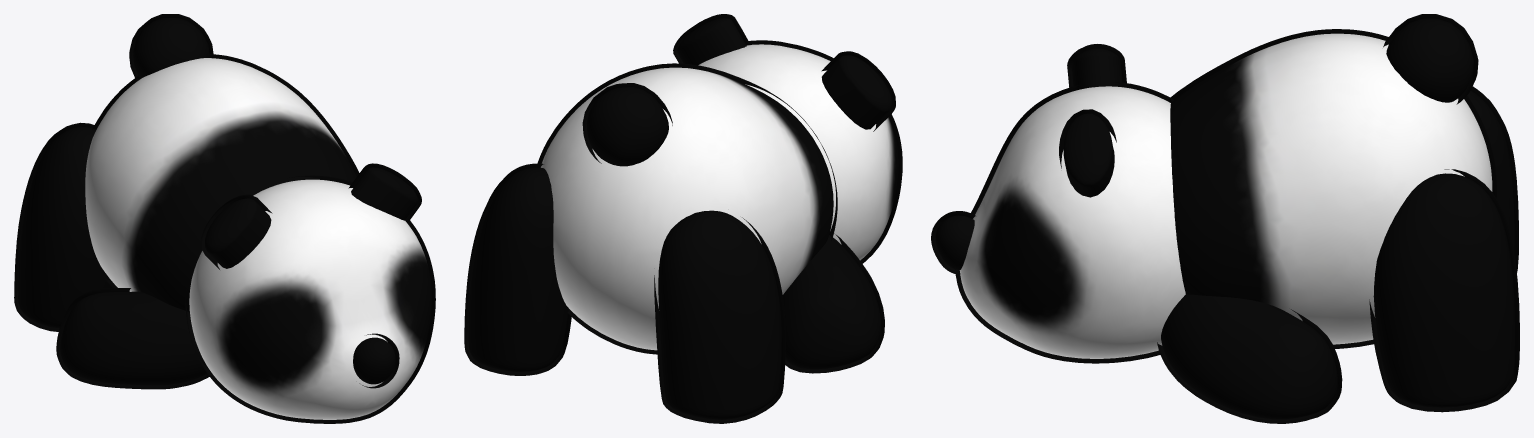
File: asset.gltf
3 renders of one model, left to right at view 1: azimuth 30°, elevation 25°; view 2: azimuth 150°, elevation 25°; view 3: azimuth 270°, elevation 25°, orthographic. The views are drawn at different scales.
Parts seen in each view (by area): view 1: panda001_Group7725, panda001_Group7726; view 2: panda001_Group7725, panda001_Group7726; view 3: panda001_Group7725, panda001_Group7726.
Part boxes in pixels (x1,y1,x2,y2): panda001_Group7725: [18, 17, 431, 419]; panda001_Group7726: [14, 14, 435, 423]; panda001_Group7725: [468, 18, 898, 419]; panda001_Group7726: [464, 14, 902, 423]; panda001_Group7725: [935, 18, 1515, 419]; panda001_Group7726: [931, 14, 1519, 423].
Size of the model in its own units: 2.91 by 2.25 by 3.71.
2 materials, 1 textured.
